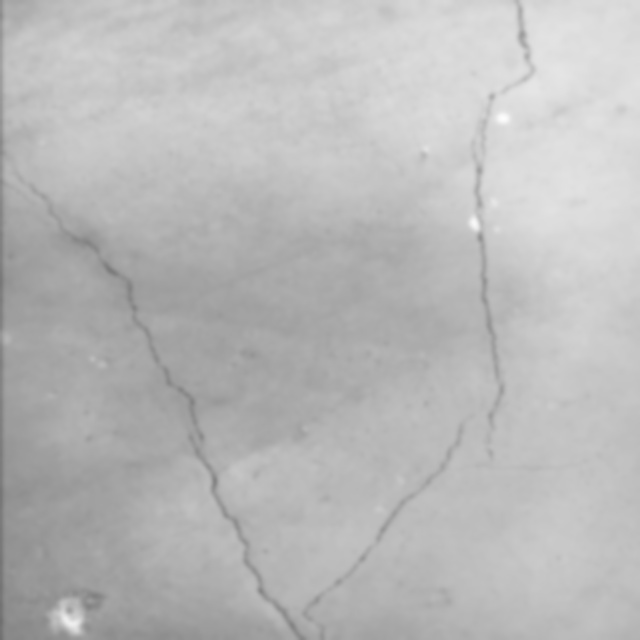SurfaceCrack: (0, 87, 380, 640), (444, 0, 563, 618)
